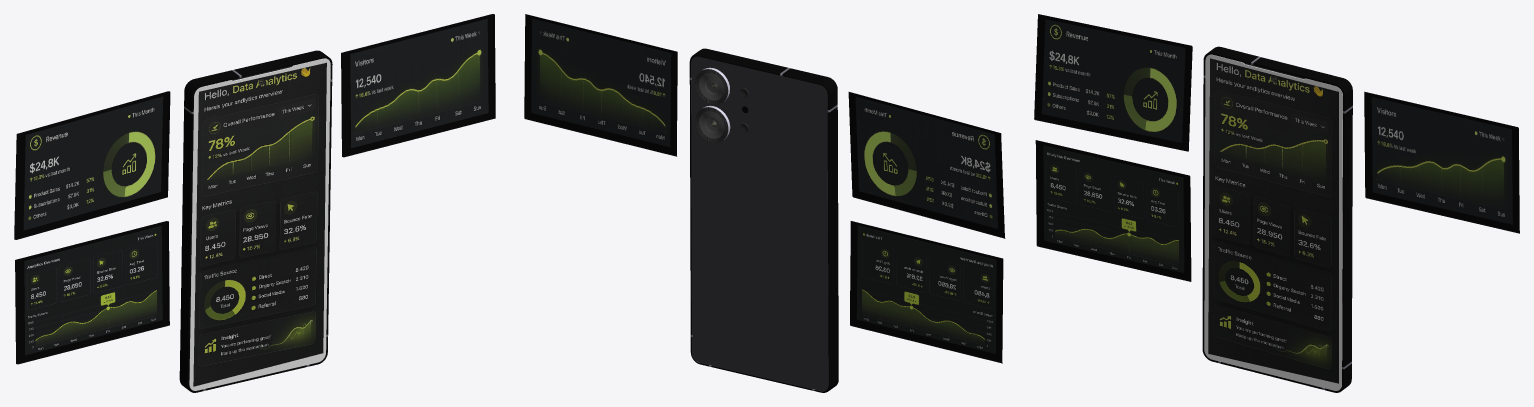
The model's file is data-analytics.glb.
3 renders of one model, left to right at view 1: azimuth 30°, elevation 25°; view 2: azimuth 150°, elevation 25°; view 3: azimuth 330°, elevation 25°, orthographic.
Parts seen in each view (by area): view 1: object 5, Side monitor R_4.001, Side monitor R_4.003, Side monitor R_4.002, object 12, object 7; view 2: object 6, Side monitor R_4.003, Side monitor R_4.002, Side monitor R_4.001, object 12, object 9, object 8; view 3: object 5, Side monitor R_4.001, Side monitor R_4.003, Side monitor R_4.002, object 12, object 7.
Part boxes in pixels (bbox=[...]): object 5: bbox=[193, 62, 326, 386]; Side monitor R_4.001: bbox=[14, 91, 170, 239]; Side monitor R_4.003: bbox=[341, 14, 495, 157]; Side monitor R_4.002: bbox=[15, 221, 169, 364]; object 12: bbox=[179, 50, 332, 392]; object 7: bbox=[189, 58, 330, 390]; object 6: bbox=[691, 56, 828, 390]; Side monitor R_4.003: bbox=[524, 14, 677, 156]; Side monitor R_4.002: bbox=[850, 221, 1003, 363]; Side monitor R_4.001: bbox=[848, 92, 1005, 238]; object 12: bbox=[689, 48, 838, 392]; object 9: bbox=[695, 67, 730, 142]; object 8: bbox=[699, 73, 724, 138]; object 5: bbox=[1208, 58, 1338, 383]; Side monitor R_4.001: bbox=[1034, 14, 1192, 151]; Side monitor R_4.003: bbox=[1364, 91, 1519, 233]; Side monitor R_4.002: bbox=[1035, 140, 1191, 281]; object 12: bbox=[1202, 46, 1352, 392]; object 7: bbox=[1204, 54, 1342, 390].
Bounding box in the file's own units: 0.2662 × 0.1639 × 0.0116.
Materials: 19 (5 with a texture image).
